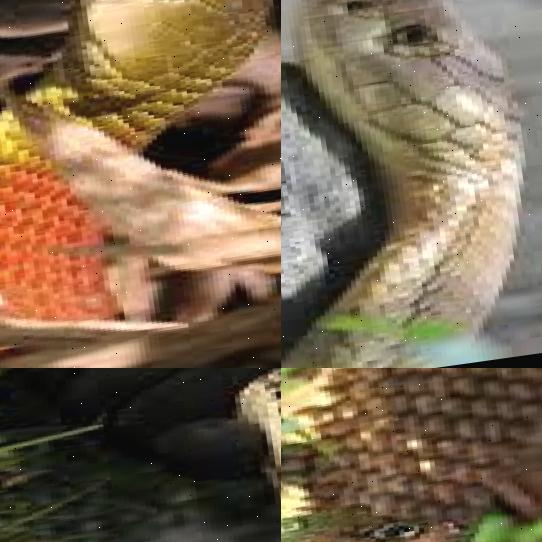2: (0, 0, 281, 368)
5: (281, 0, 542, 368), (281, 368, 542, 542)
snake: (0, 368, 281, 542)
